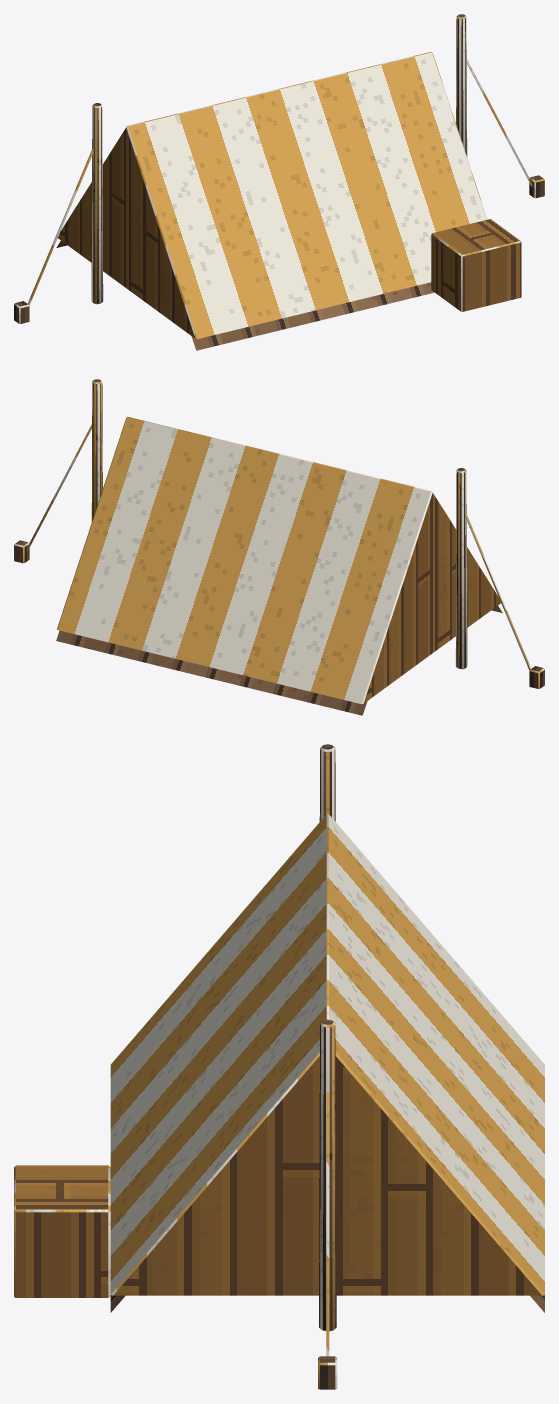
File: spec_tent_1.glb
3 renders of one model, top to bottom at view 1: azimuth 30°, elevation 25°; view 2: azimuth 150°, elevation 25°; view 3: azimuth 270°, elevation 25°, orthographic. The views are drawn at different scales.
Parts seen in each view (by area): view 1: spec_tent_1; view 2: spec_tent_1; view 3: spec_tent_1.
Part boxes in pixels (x1,y1,x2,y2): spec_tent_1: (14,14,544,350); spec_tent_1: (14,379,544,715); spec_tent_1: (14,744,544,1389).
Bounding box in the file's own units: 3.9 × 1.43 × 2.2.
Materials: 4 (4 with a texture image).
